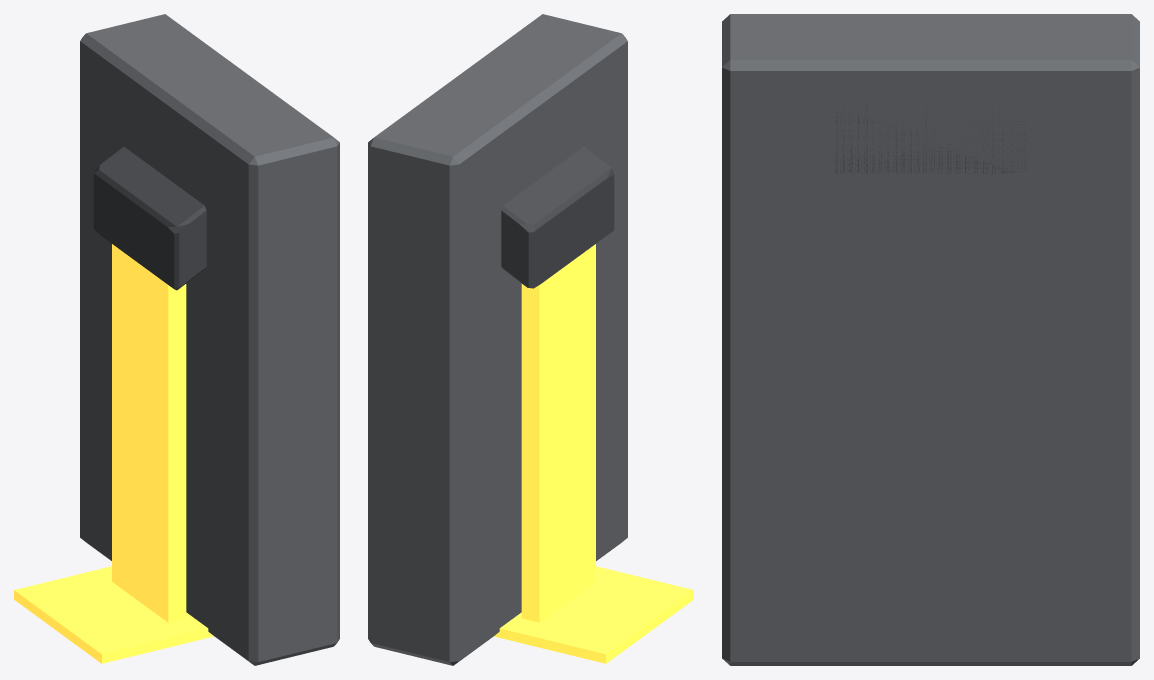
File: heatsinkLavaFall.71c51eb3.glb
3 renders of one model, left to right at view 1: azimuth 30°, elevation 25°; view 2: azimuth 150°, elevation 25°; view 3: azimuth 270°, elevation 25°, orthographic. The views are drawn at different scales.
Parts seen in each view (by area): view 1: lava_fall; view 2: lava_fall; view 3: lava_fall.
Part boxes in pixels (x1,y1,x2,y2): lava_fall: [14, 14, 339, 665]; lava_fall: [368, 14, 693, 665]; lava_fall: [722, 14, 1139, 665].
Bounding box in the file's own units: 6.5 × 16 × 10.
